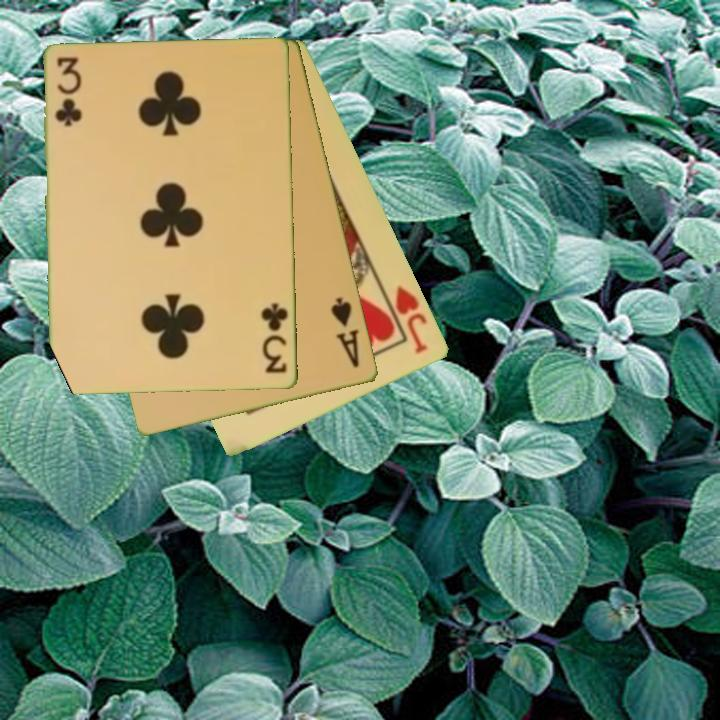3c: (258, 300, 291, 376), (52, 53, 81, 130)
As: (328, 294, 363, 371)
Jh: (379, 282, 431, 357)
